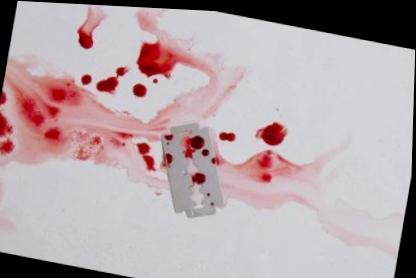Fire: (0, 6, 244, 192), (213, 129, 406, 255), (77, 4, 107, 47), (97, 65, 129, 91), (256, 119, 288, 142), (133, 83, 147, 94)
